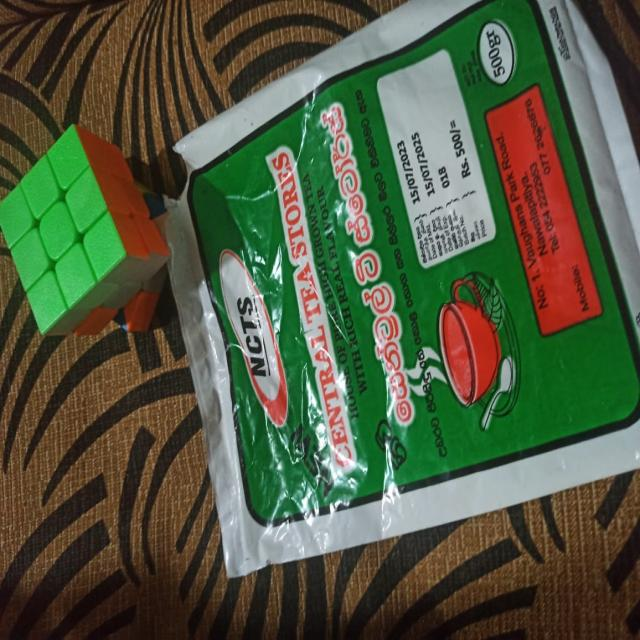Central Tea: (162, 61, 640, 580)
